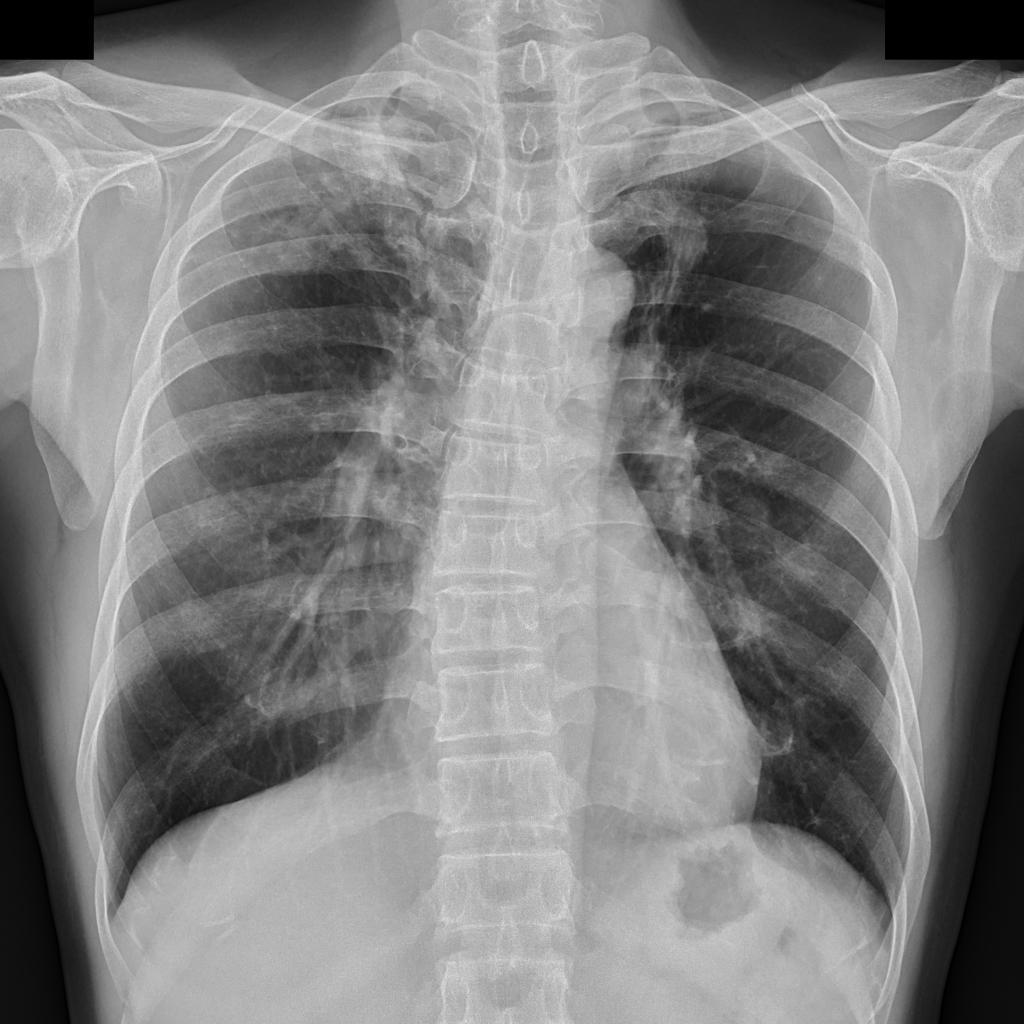Nodule: (662, 205, 709, 265)
